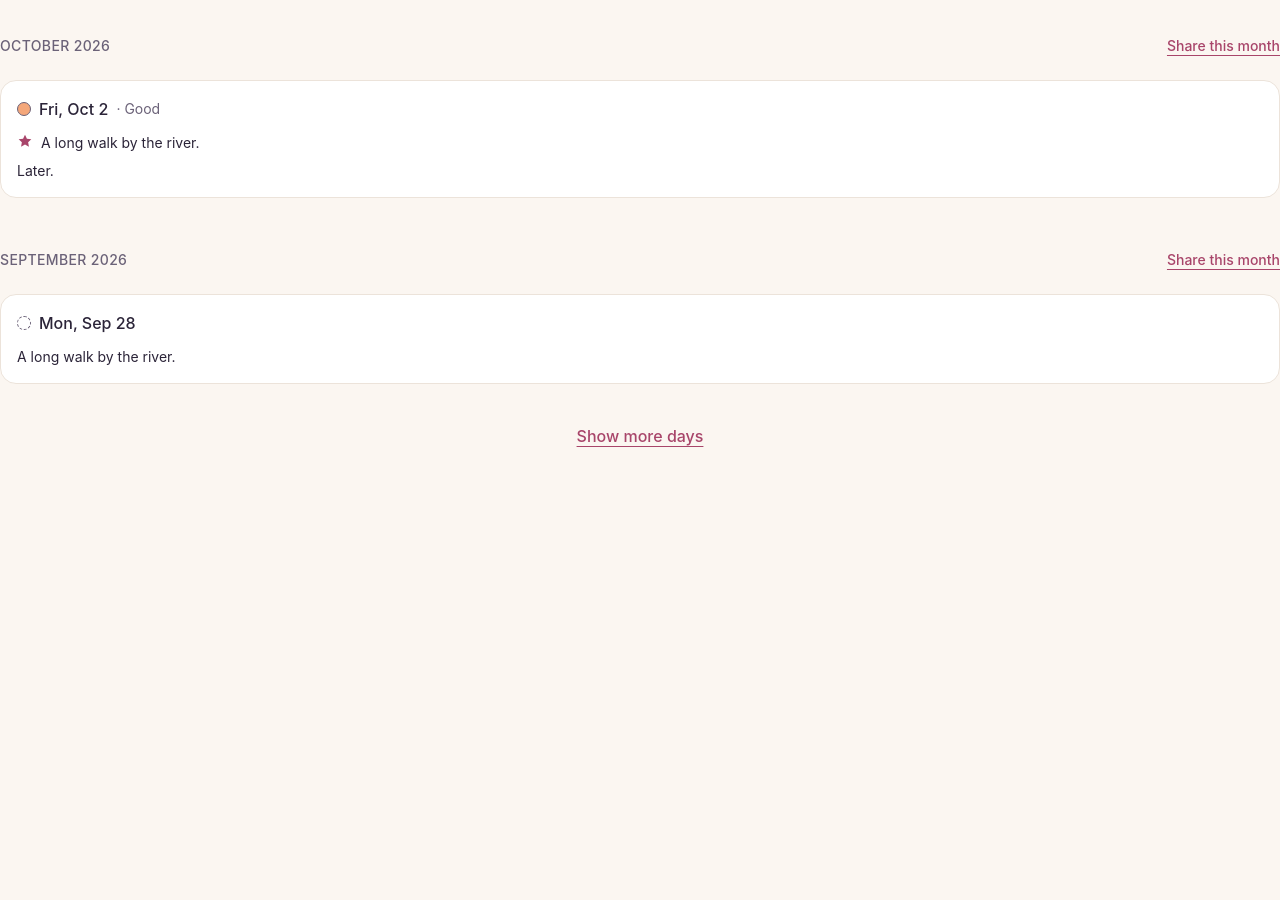
Test: TimelineList: Share this month (decision 161) › in Dec/Jan the month share offers the Year card too (1.1 J; UX: the app's entry points)
This screenshot has width=1280, height=900.
Step 1. Click the button with test id "timeline-share-2026-10" → point(1224, 46), box x1=1167 y1=24 x2=1279 y2=68
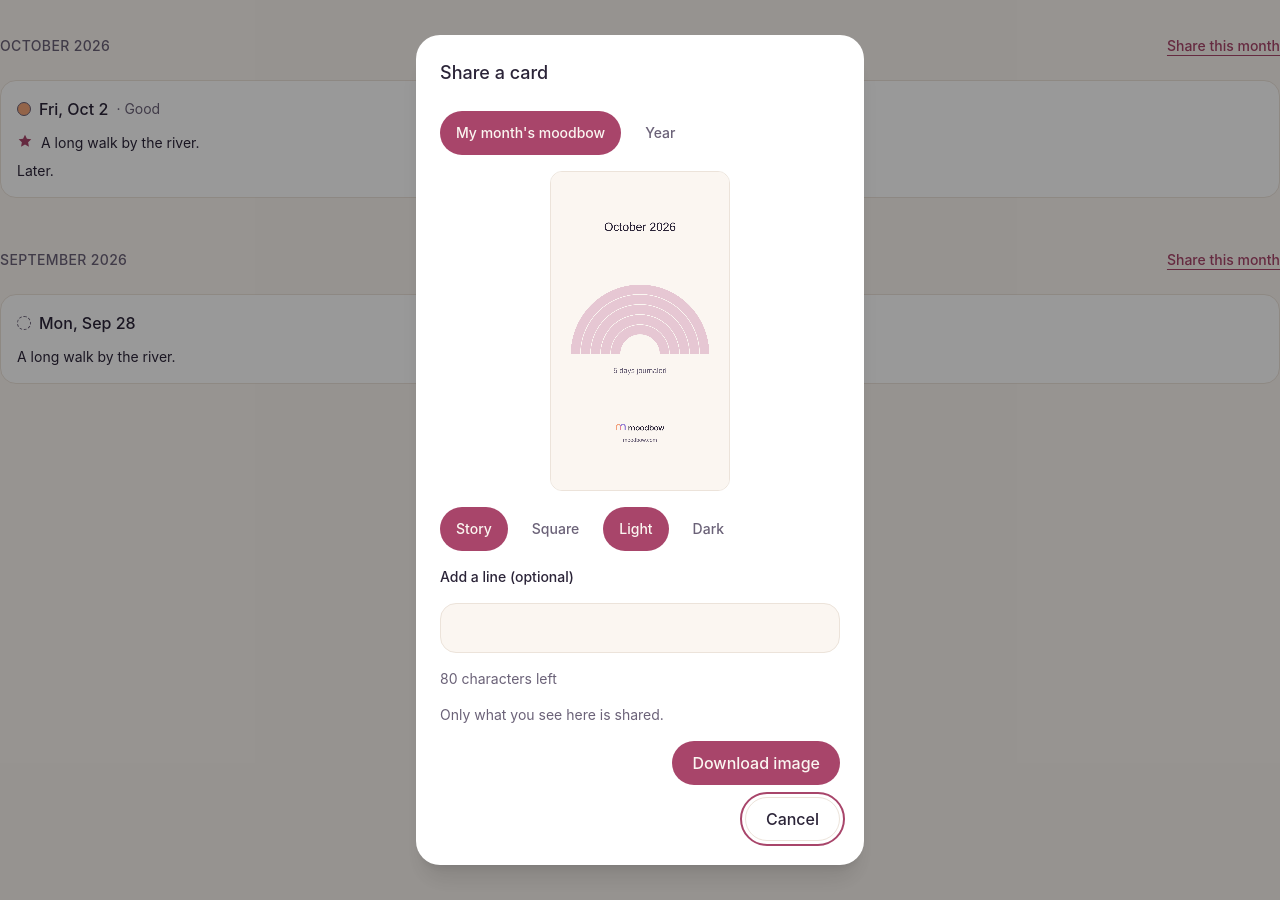
Now the button with test id "share-type-year" reads "Year", box x1=629 y1=111 x2=692 y2=155
